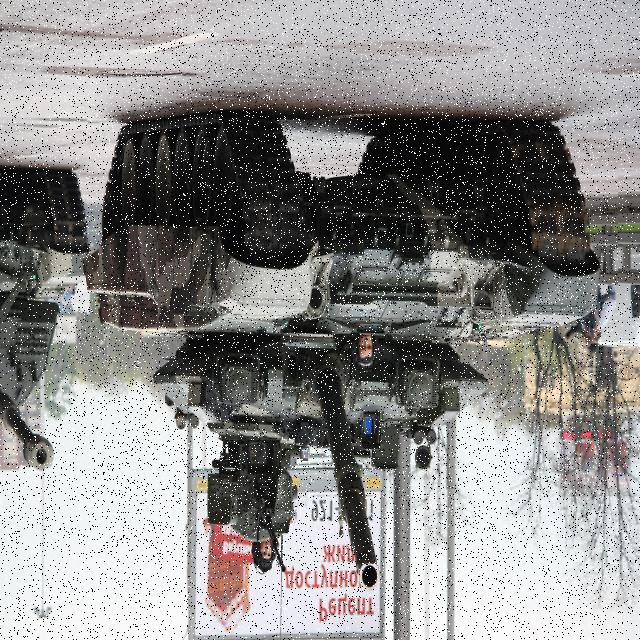MIL_MBT: (87, 95, 618, 563)
